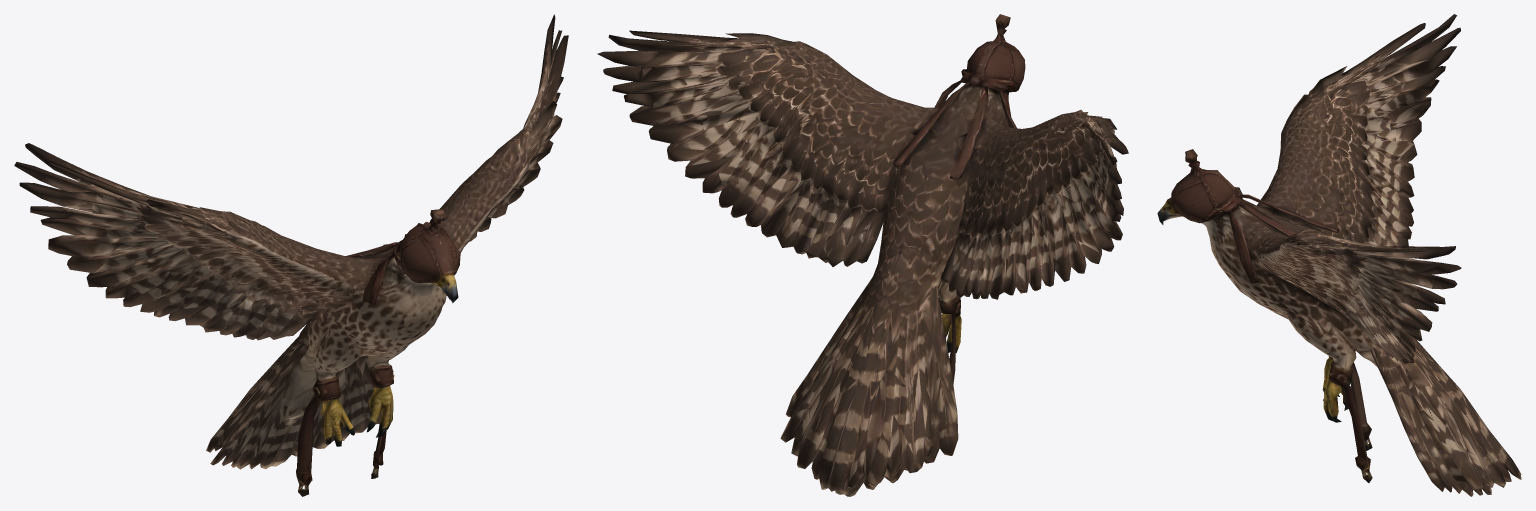
Rendered from PetEagle.fbx.
3 views of the same model, side by side, from view 1: azimuth 30°, elevation 25°; view 2: azimuth 150°, elevation 25°; view 3: azimuth 270°, elevation 25° (orthographic). The views are drawn at different scales.
Visible parts, largest first — view 1: PetFalcon_Body; view 2: PetFalcon_Body; view 3: PetFalcon_Body.
Part boxes in pixels (bbox=[...]): PetFalcon_Body: bbox=[14, 14, 568, 496]; PetFalcon_Body: bbox=[597, 14, 1128, 496]; PetFalcon_Body: bbox=[1157, 14, 1521, 496].
Size of the model in its own units: 0.7114 by 0.5 by 0.4542.
Materials: 1 (1 with a texture image).
